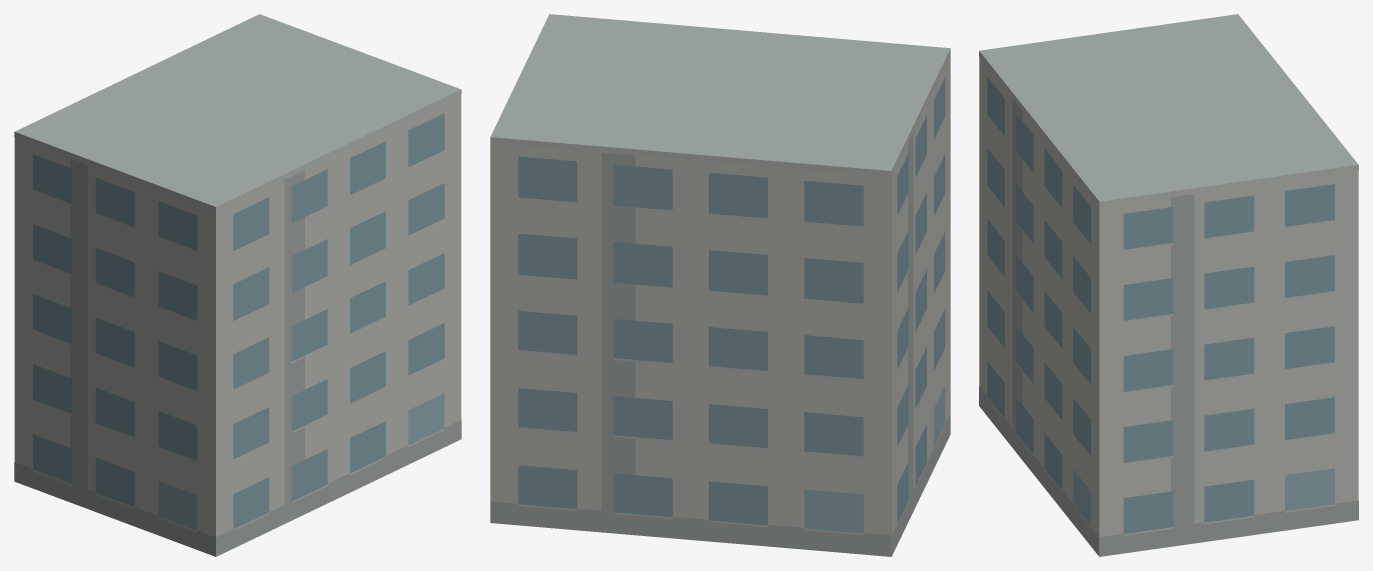
Rendered from survey-upis-32810012.glb.
3 renders of one model, left to right at view 1: azimuth 30°, elevation 25°; view 2: azimuth 150°, elevation 25°; view 3: azimuth 270°, elevation 25°, orthographic. The views are drawn at different scales.
Visible parts, largest first — view 1: survey-upis-32810012.tmp; view 2: survey-upis-32810012.tmp; view 3: survey-upis-32810012.tmp.
Part boxes in pixels (left/top/right/bottom): survey-upis-32810012.tmp: left=14, top=14, right=461, bottom=556; survey-upis-32810012.tmp: left=490, top=14, right=950, bottom=556; survey-upis-32810012.tmp: left=979, top=14, right=1358, bottom=556.
Size of the model in its own units: 16.97 by 14.98 by 14.52.
